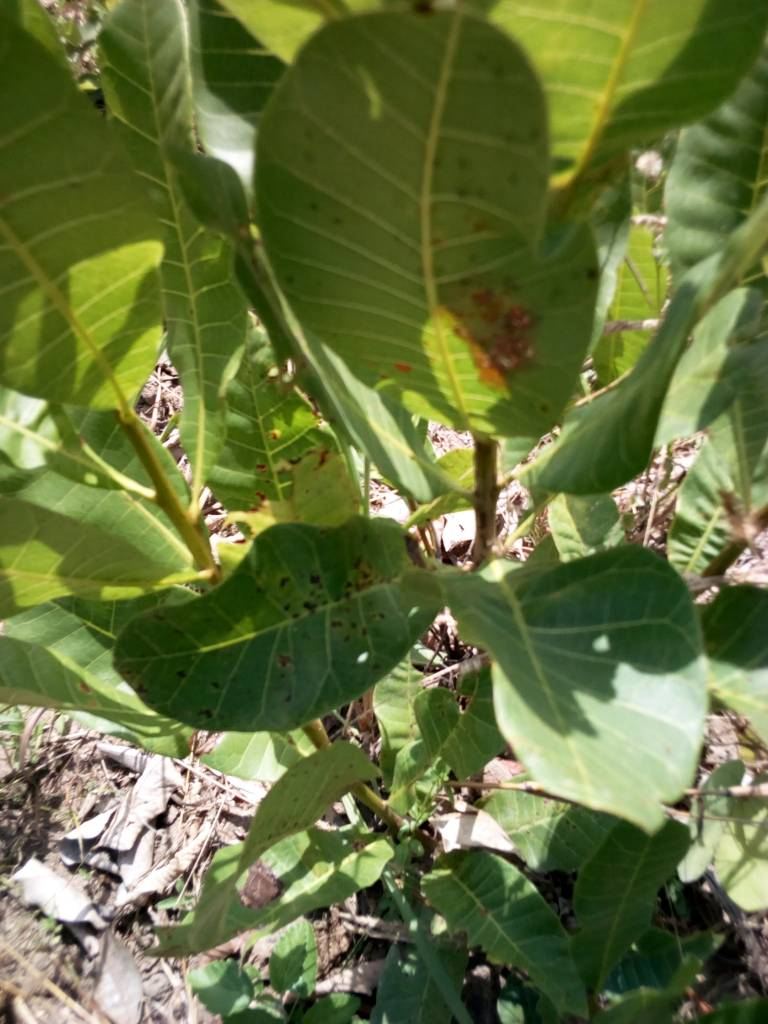Anthracnose: (254, 5, 560, 449), (90, 513, 454, 738)
